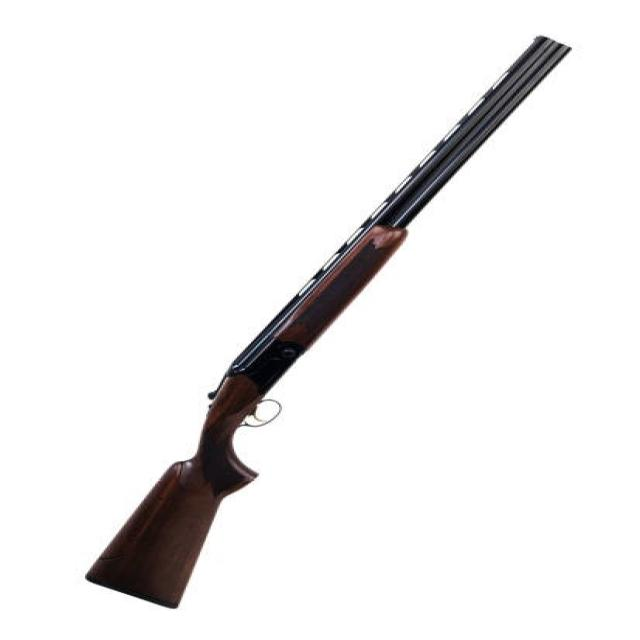rifle: (83, 30, 586, 623)
